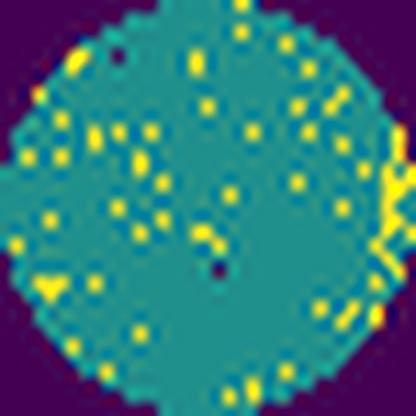Edge-Loc: (361, 150, 415, 286)
